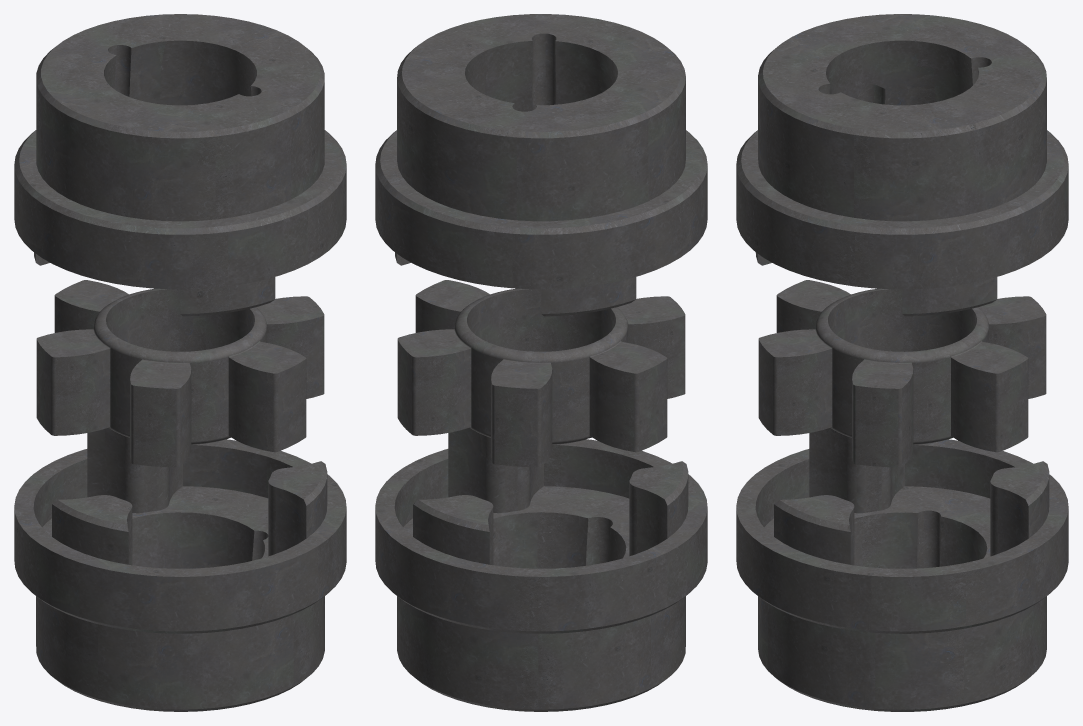
File: HRC COUPLING.glb
3 renders of one model, left to right at view 1: azimuth 30°, elevation 25°; view 2: azimuth 150°, elevation 25°; view 3: azimuth 270°, elevation 25°, orthographic.
Parts seen in each view (by area): view 1: 1.HRC COUPLING 70_F TYPE HRC 70, 1.HRC COUPLING 70_F TYPE HRC 071, 2.SPIDER HRC 70.001; view 2: 1.HRC COUPLING 70_F TYPE HRC 70, 1.HRC COUPLING 70_F TYPE HRC 071, 2.SPIDER HRC 70.001; view 3: 1.HRC COUPLING 70_F TYPE HRC 70, 1.HRC COUPLING 70_F TYPE HRC 071, 2.SPIDER HRC 70.001.
Part boxes in pixels (bbox=[...]): 1.HRC COUPLING 70_F TYPE HRC 70: bbox=[14, 14, 346, 316]; 1.HRC COUPLING 70_F TYPE HRC 071: bbox=[14, 427, 346, 711]; 2.SPIDER HRC 70.001: bbox=[36, 280, 324, 467]; 1.HRC COUPLING 70_F TYPE HRC 70: bbox=[375, 14, 707, 316]; 1.HRC COUPLING 70_F TYPE HRC 071: bbox=[375, 427, 707, 711]; 2.SPIDER HRC 70.001: bbox=[397, 280, 685, 467]; 1.HRC COUPLING 70_F TYPE HRC 70: bbox=[736, 14, 1068, 316]; 1.HRC COUPLING 70_F TYPE HRC 071: bbox=[736, 427, 1068, 711]; 2.SPIDER HRC 70.001: bbox=[758, 280, 1046, 467].
Bounding box in the file's own units: 0.0689 × 0.1329 × 0.069.
Materials: 1 (1 with a texture image).
